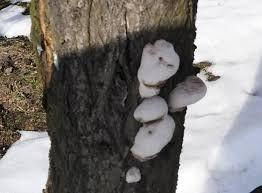Plum tinder fungus: (127, 38, 184, 86), (133, 110, 183, 162), (169, 76, 210, 112), (134, 97, 169, 124), (137, 85, 164, 99), (126, 169, 146, 187)
